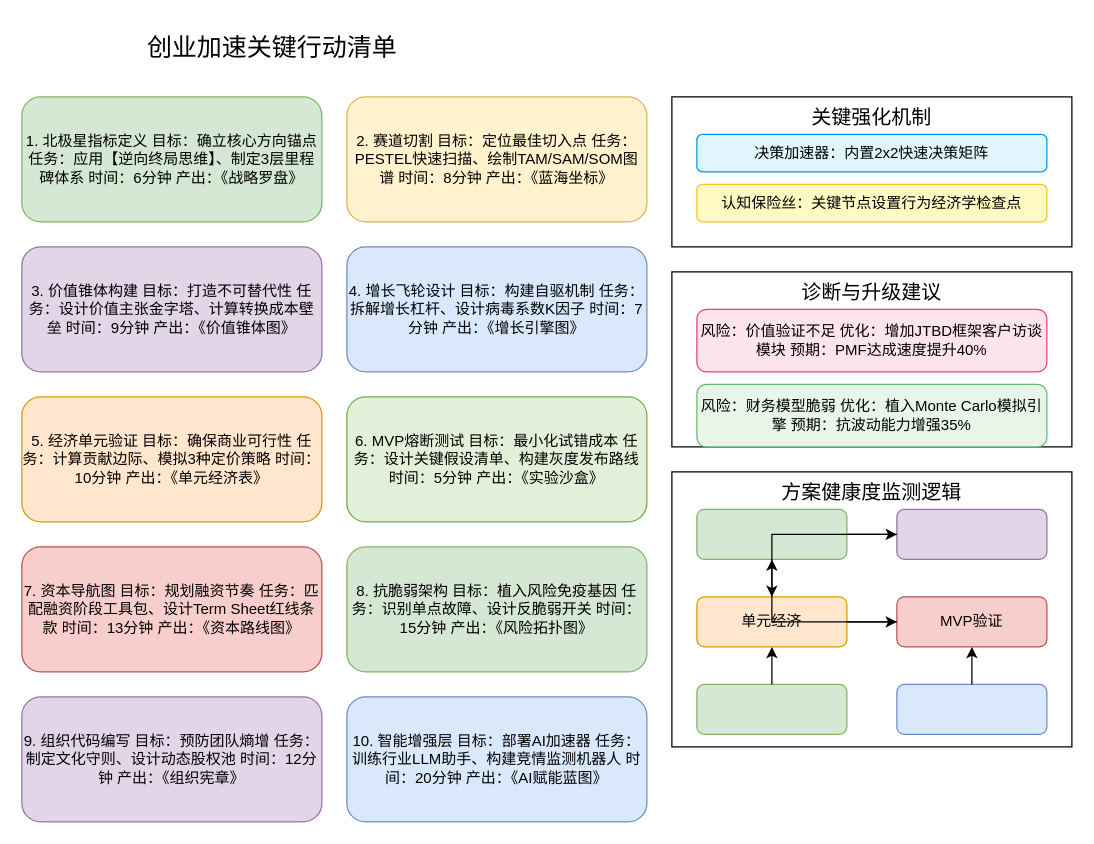
The diagram is 1094 pixels wide and 844 high, and some of its shapes have lost their labels. The shapes that lost their labels are listed below. From the top down, each one's centre as x and y in pixels, then its label:
[771,533]: 北极星指标
[971,533]: 价值锥体
[771,708]: 抗脆弱架构
[971,708]: 智能增强
